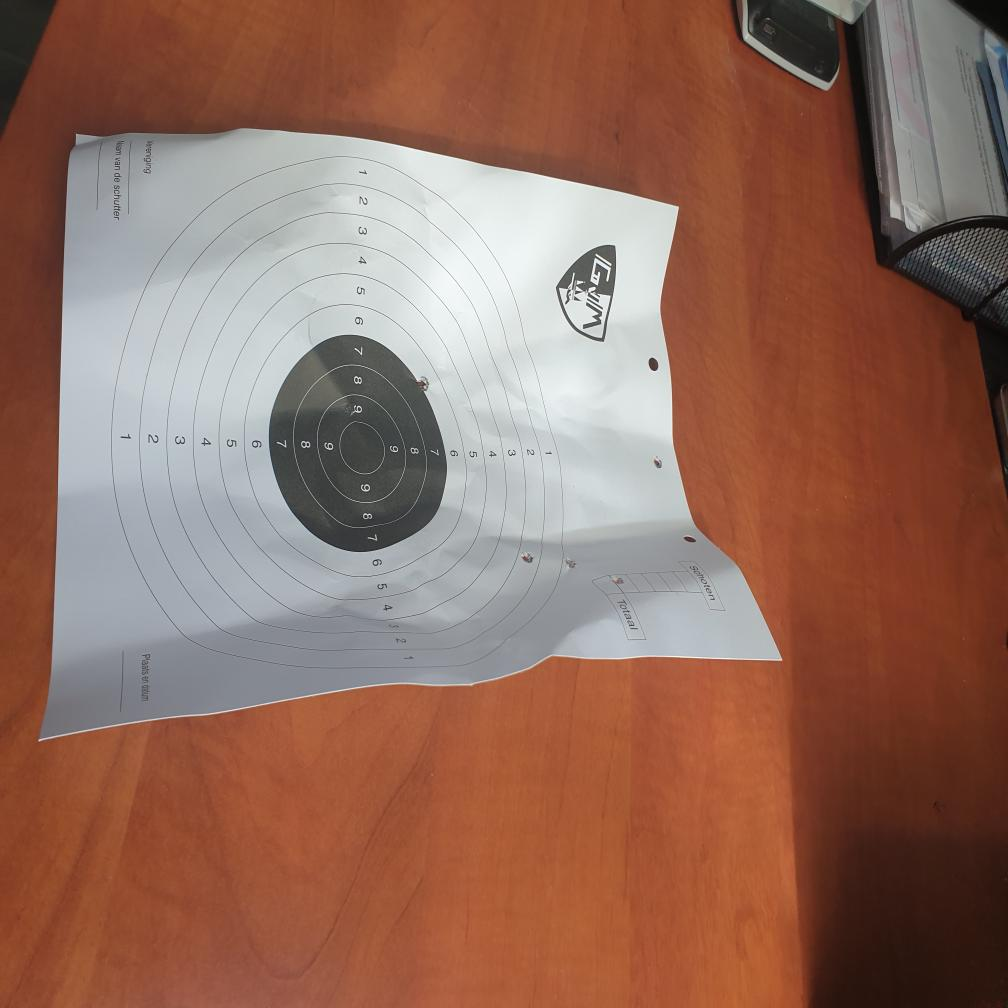0: (563, 557, 578, 571), (610, 574, 624, 585), (653, 455, 663, 470)
2: (520, 550, 534, 564)
7: (416, 375, 430, 393)
Target: (111, 152, 566, 674)
black_contour: (270, 332, 448, 553)
